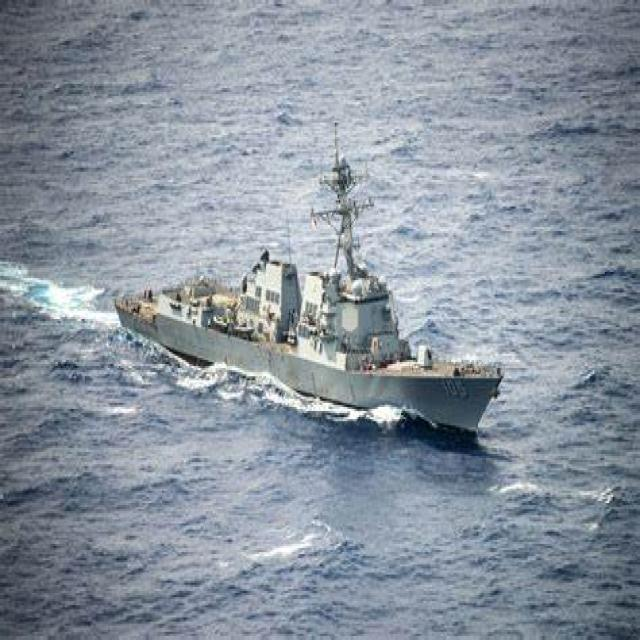navalvessels: (115, 112, 508, 454)
